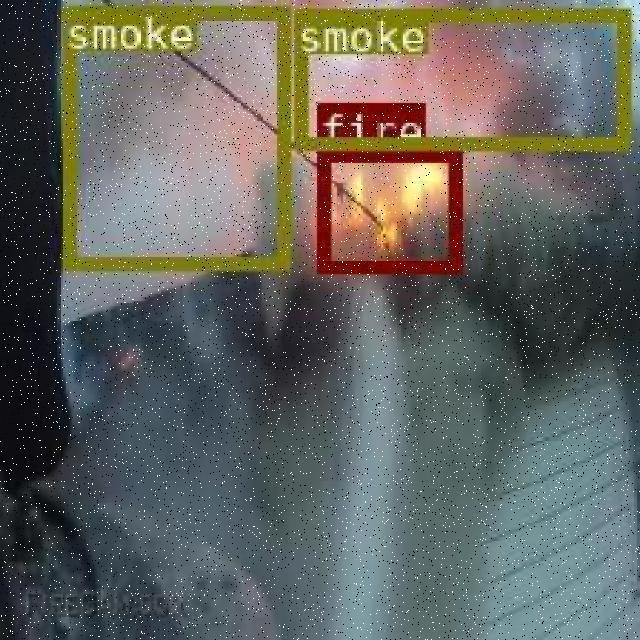Smoke: (63, 4, 286, 267), (293, 8, 629, 146)
